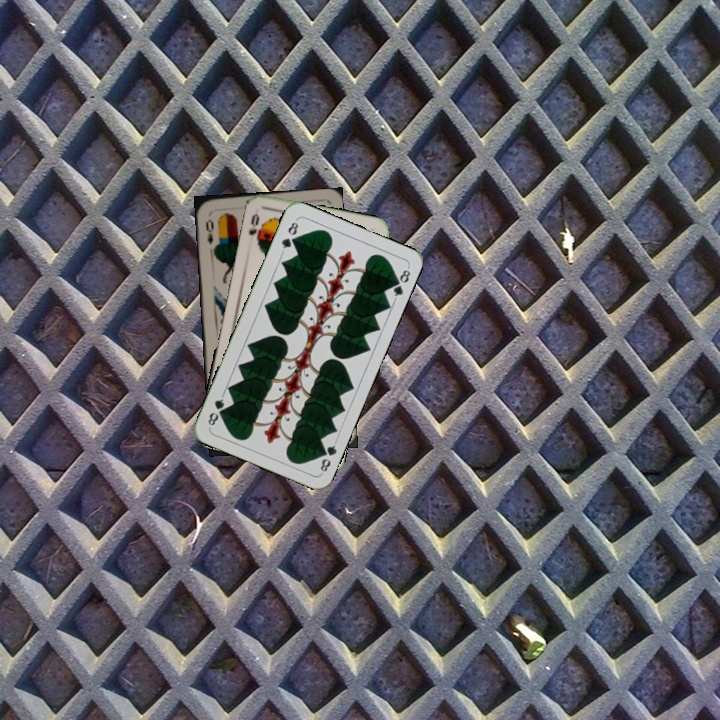EO: (202, 215, 216, 246)
G8: (277, 216, 301, 255), (315, 437, 339, 476)
SO: (245, 209, 263, 248)
